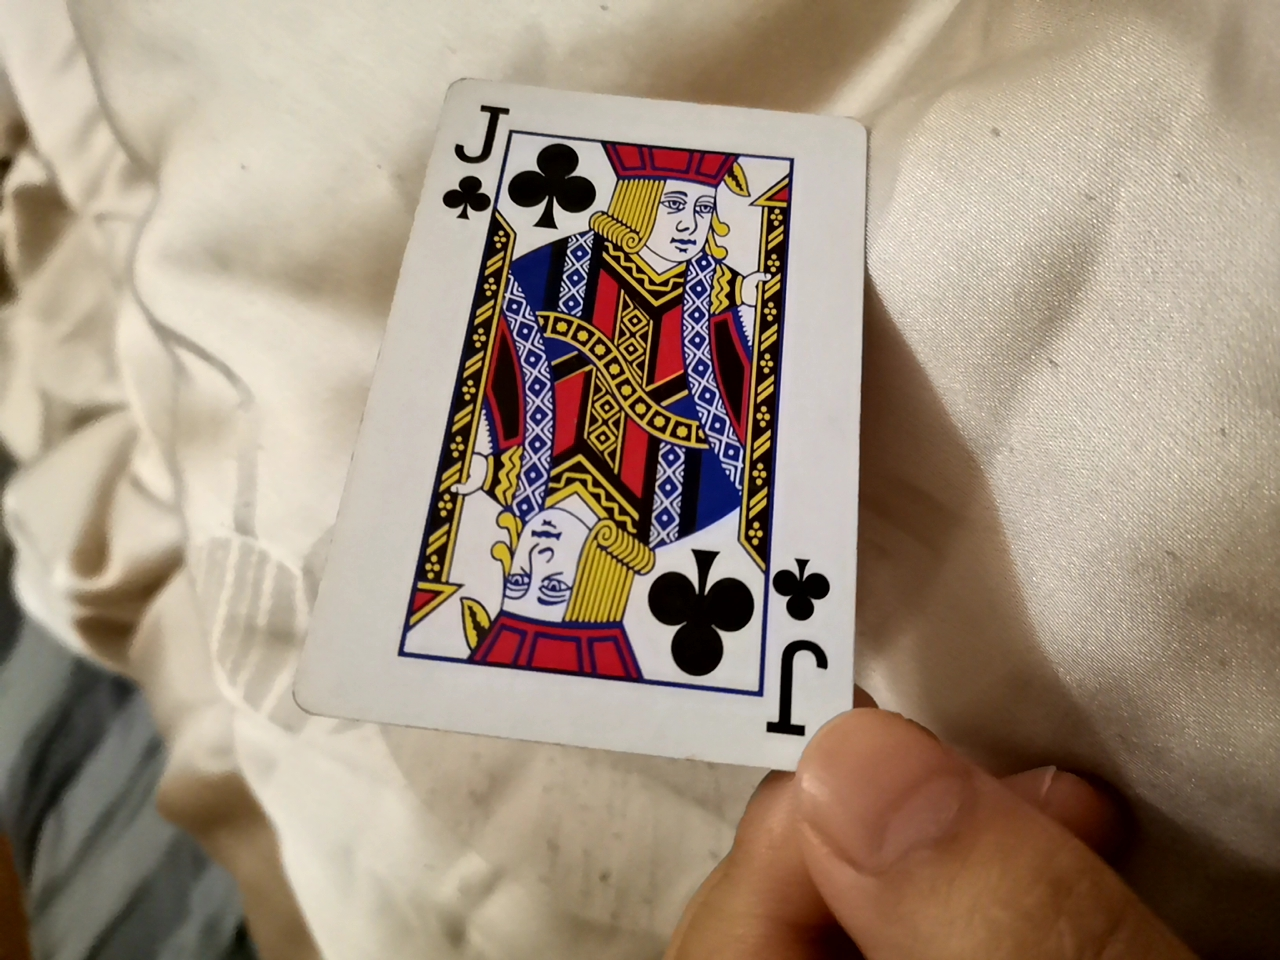mh j: (353, 110, 867, 787)
